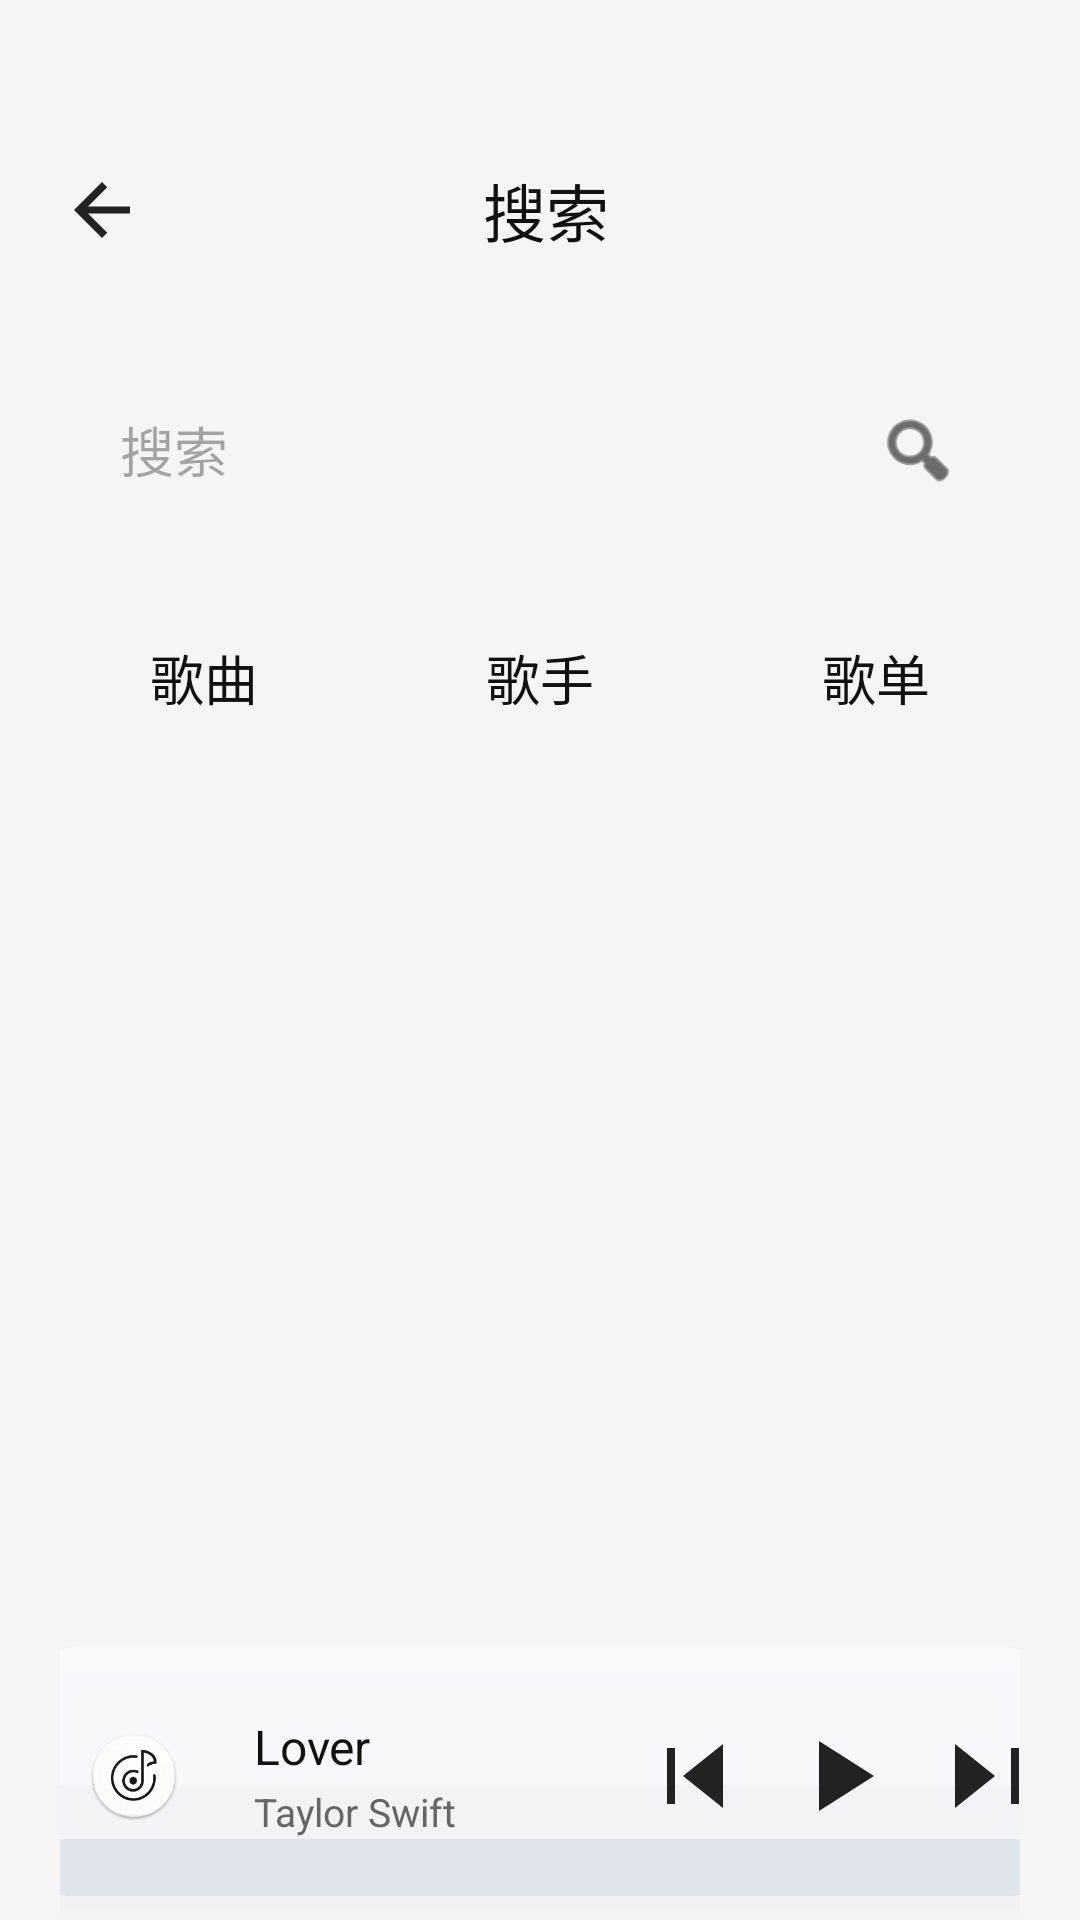

Icon bounding boxes for this 1080 × 1920 phone screenshot, format rect(x1, y1, x2, y2):
next: rect(955, 1744, 1019, 1808)
play triangle: rect(819, 1741, 874, 1811)
prev: rect(667, 1744, 723, 1808)
search: rect(887, 419, 949, 482)
返回上一页: rect(74, 182, 130, 238)
